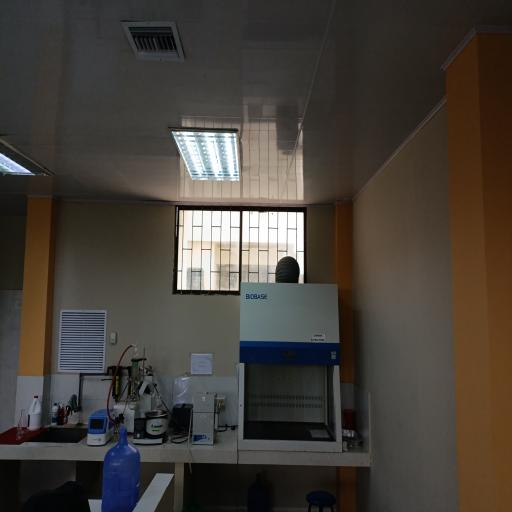Camara_Extractora_Biobase: (236, 272, 352, 461)
